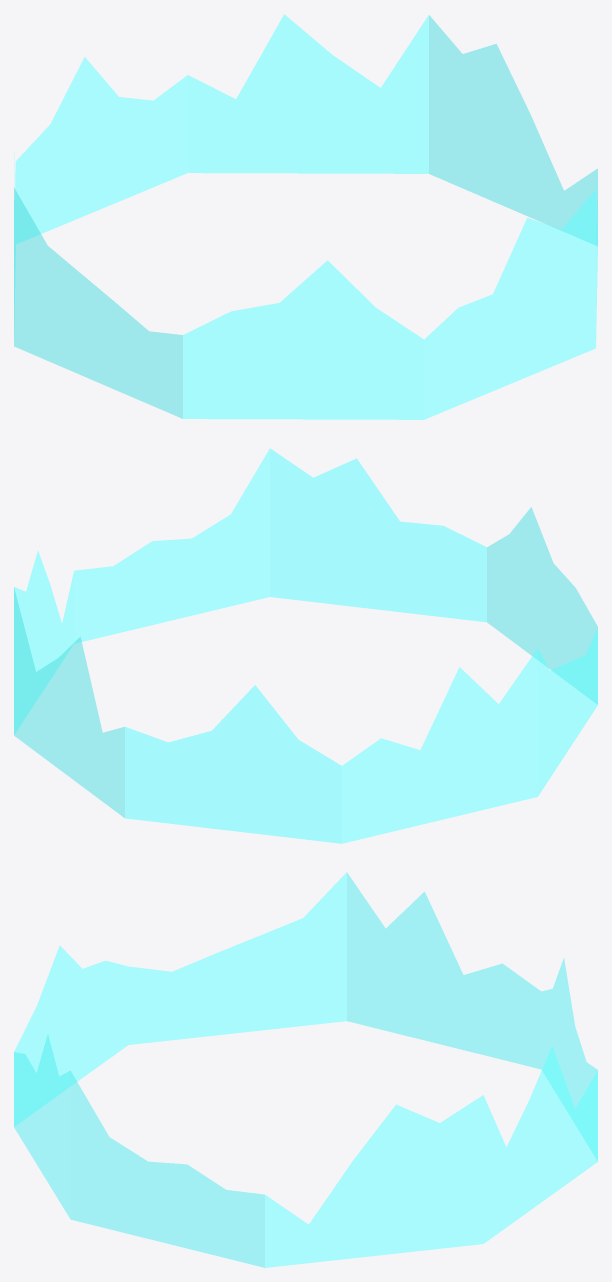
File: silver_join_area_active.gltf
The picture shows the model from 3 angles, top to bottom: view 1: azimuth 30°, elevation 25°; view 2: azimuth 150°, elevation 25°; view 3: azimuth 270°, elevation 25°; orthographic projection. The views are drawn at different scales.
Visible parts, largest first — view 1: Circle.013; view 2: Circle.013; view 3: Circle.013.
Boxes of the visible parts, left/top/right/bottom form: Circle.013: left=14, top=14, right=597, bottom=419; Circle.013: left=14, top=448, right=597, bottom=843; Circle.013: left=14, top=872, right=597, bottom=1267.
Bounding box in the file's own units: 4.56 × 1.28 × 4.56.
